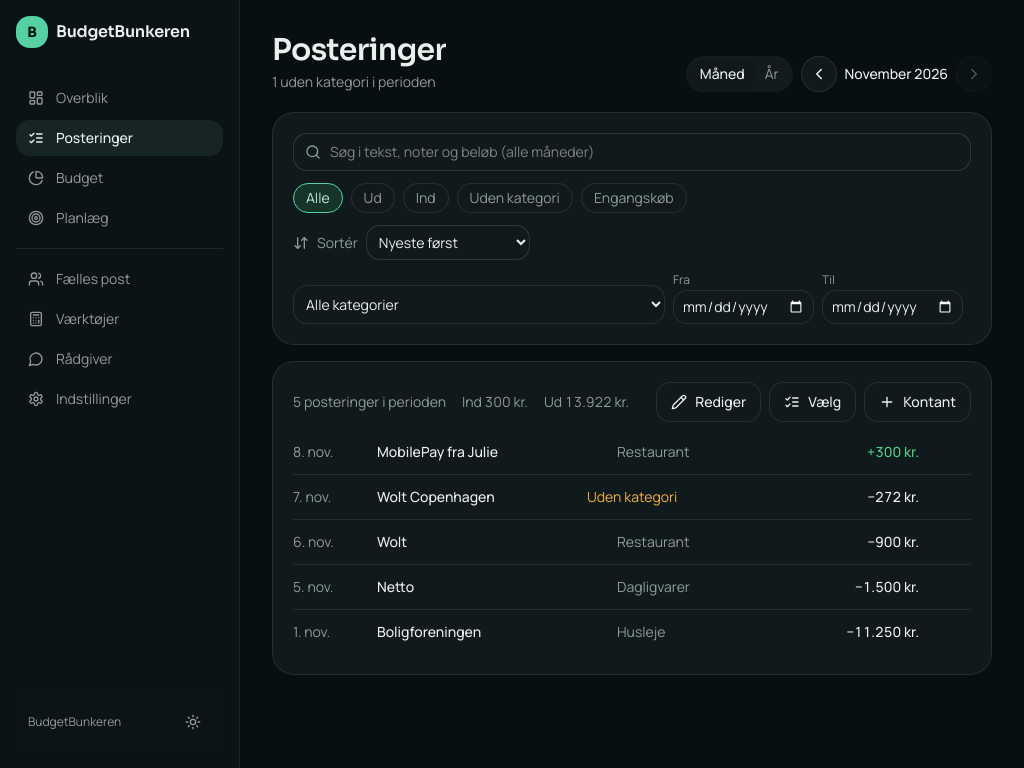
Test: Regninger, der betales en gang imellem › markeres på posteringen og vises under Budget
Type "boligforeningen" into the search field named "Søg i posteringer" at (632, 152), box left=293, top=133, right=971, bottom=171
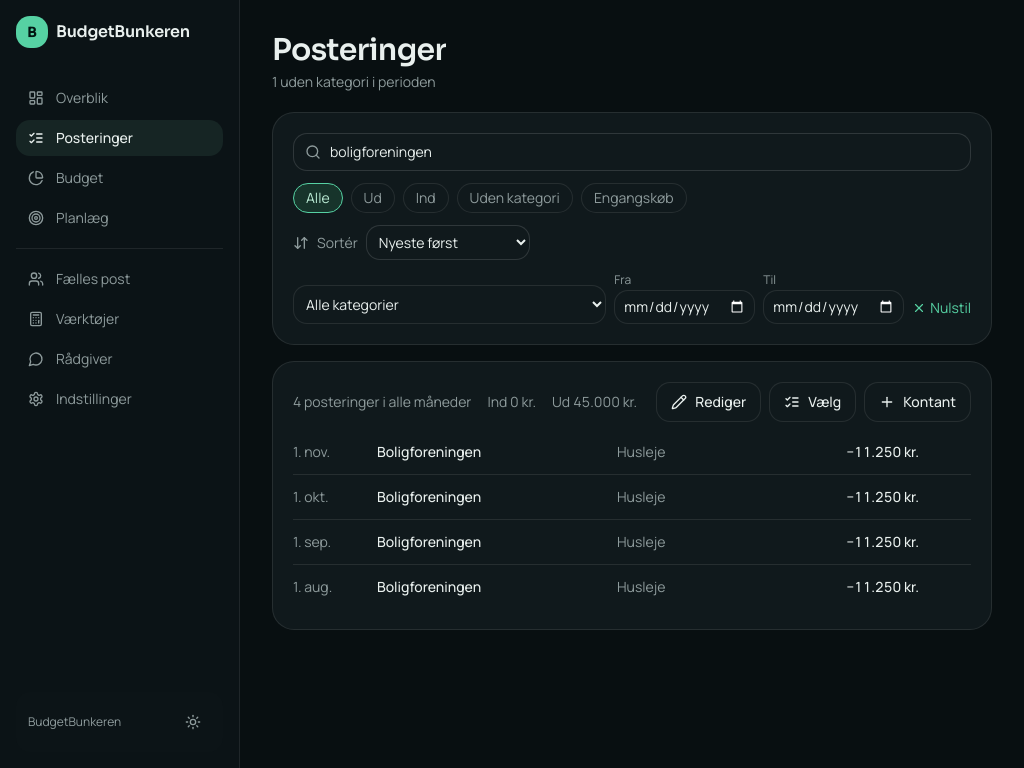
Click the text "Boligforeningen" next to "1. nov." at (429, 452), box left=377, top=442, right=481, bottom=462
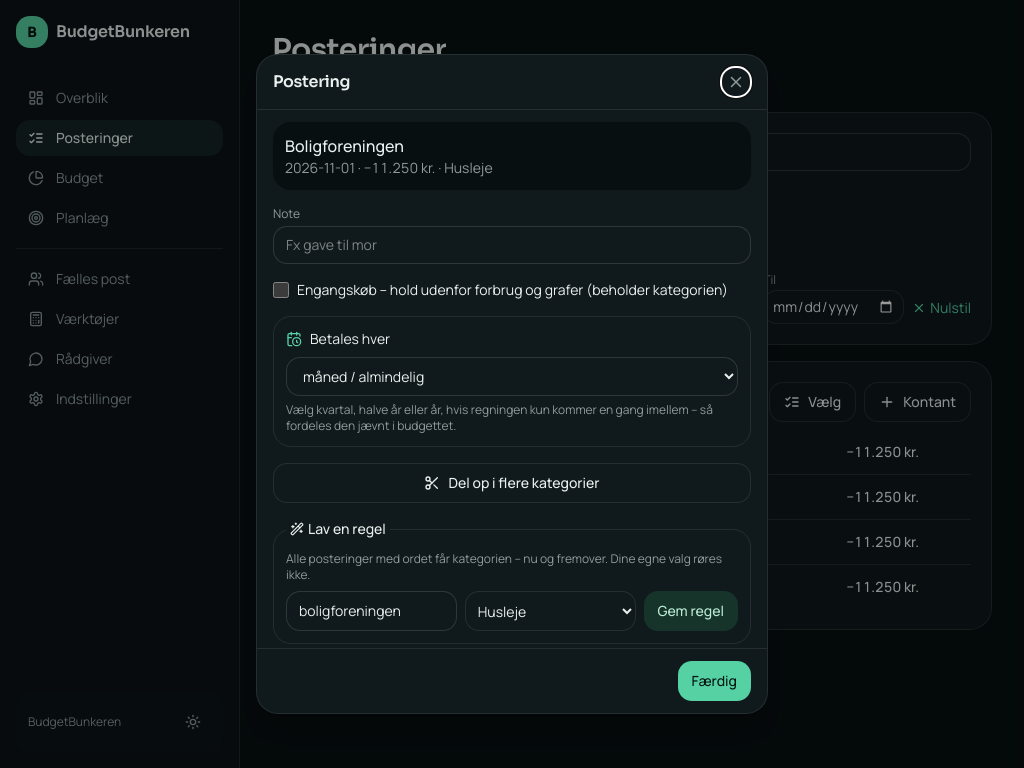
Select "kvartal (3 mdr.)" in the dropdown labelled "Betales hver" at (512, 377), box left=286, top=357, right=738, bottom=396
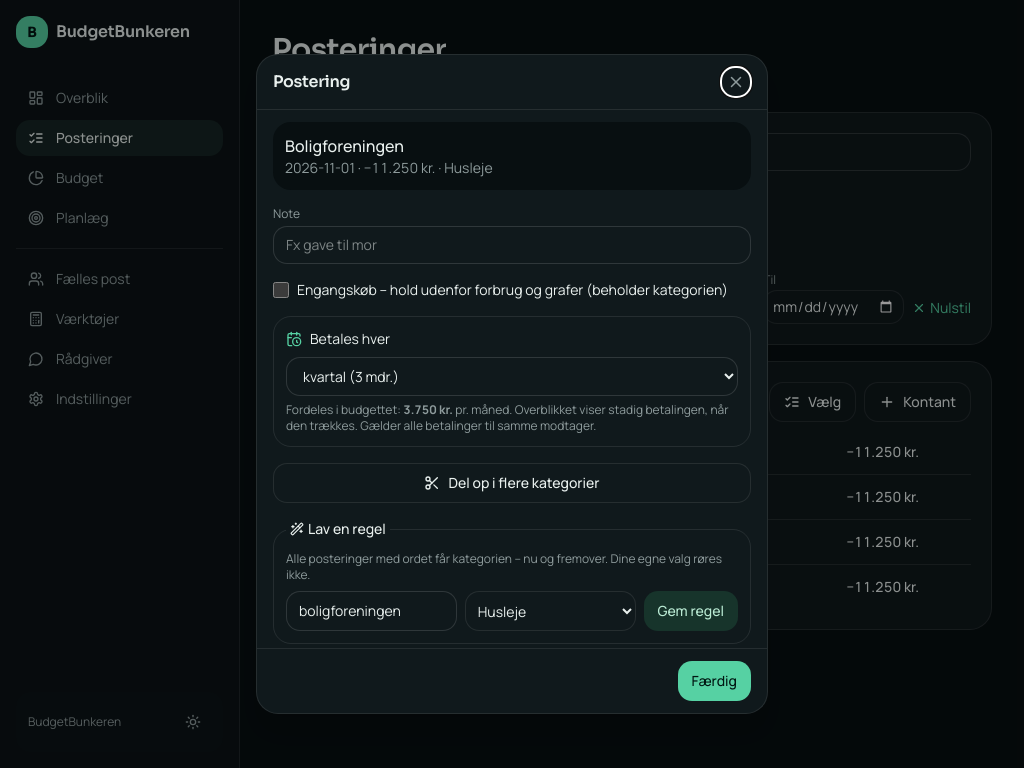
Result: the text "Fordeles i budgettet" is shown at left=286, top=401, right=403, bottom=418
Click the button "Færdig" at (714, 681), box left=678, top=661, right=751, bottom=701
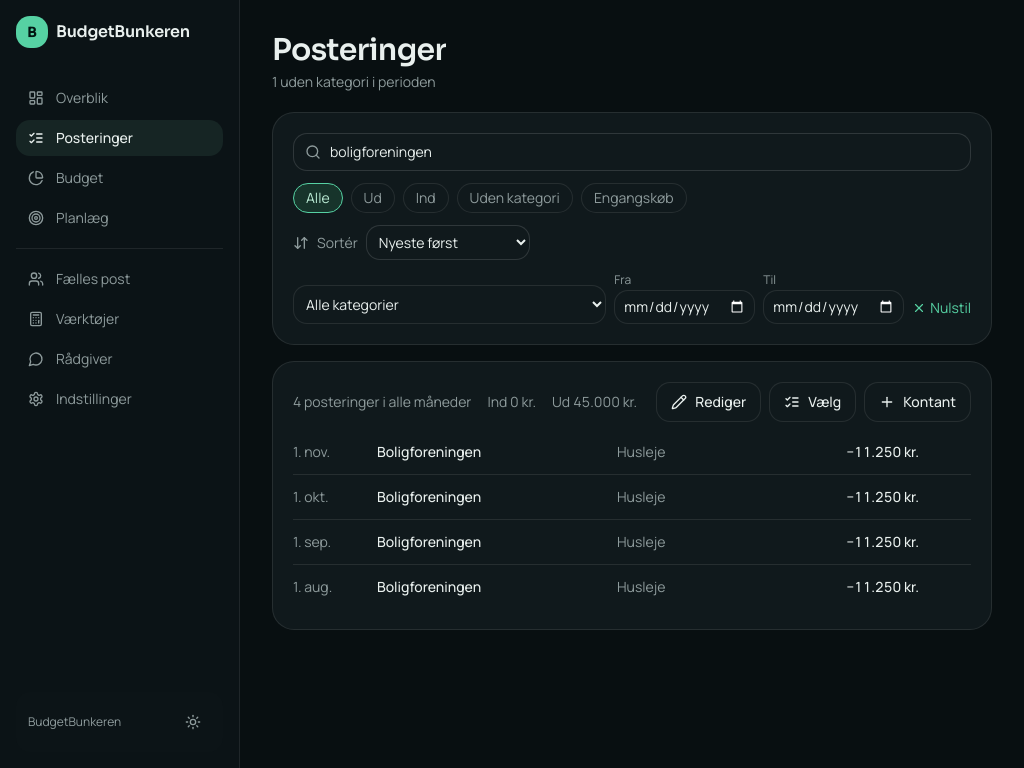
Click the link "Budget" at (66, 178), box left=28, top=168, right=103, bottom=187
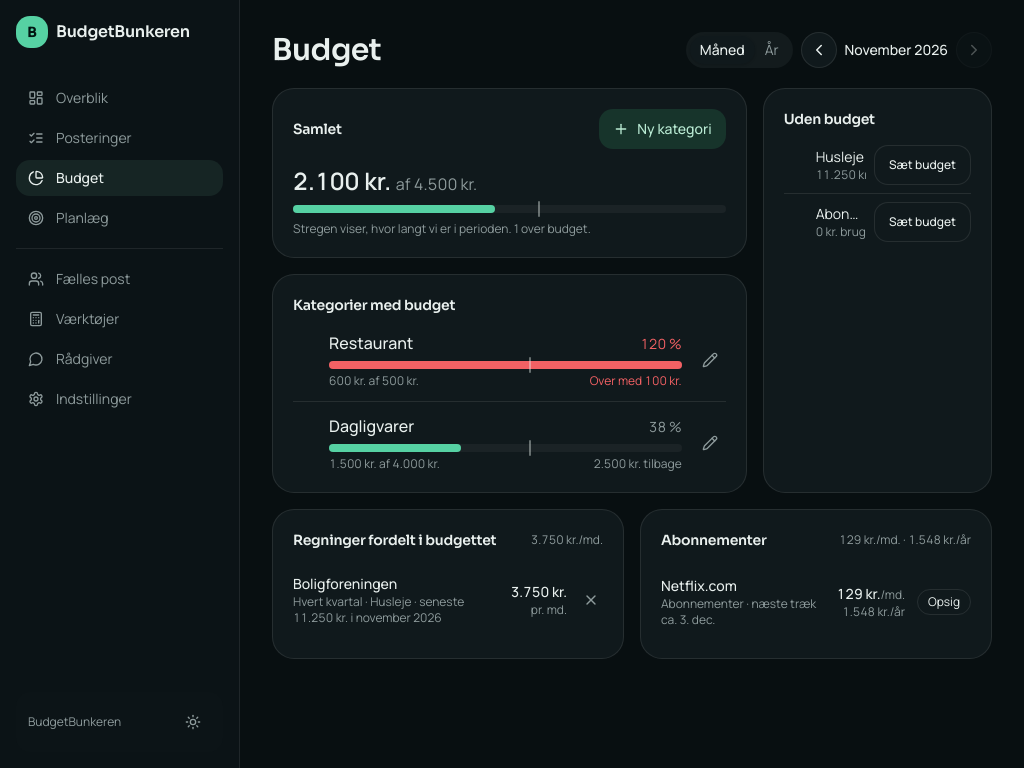
Result: the heading "Regninger fordelt i budgettet" is shown at left=293, top=530, right=496, bottom=550
Result: the text "Hvert kvartal · Husleje · seneste 11.250 kr. i november 2026" is shown at left=293, top=593, right=464, bottom=626
